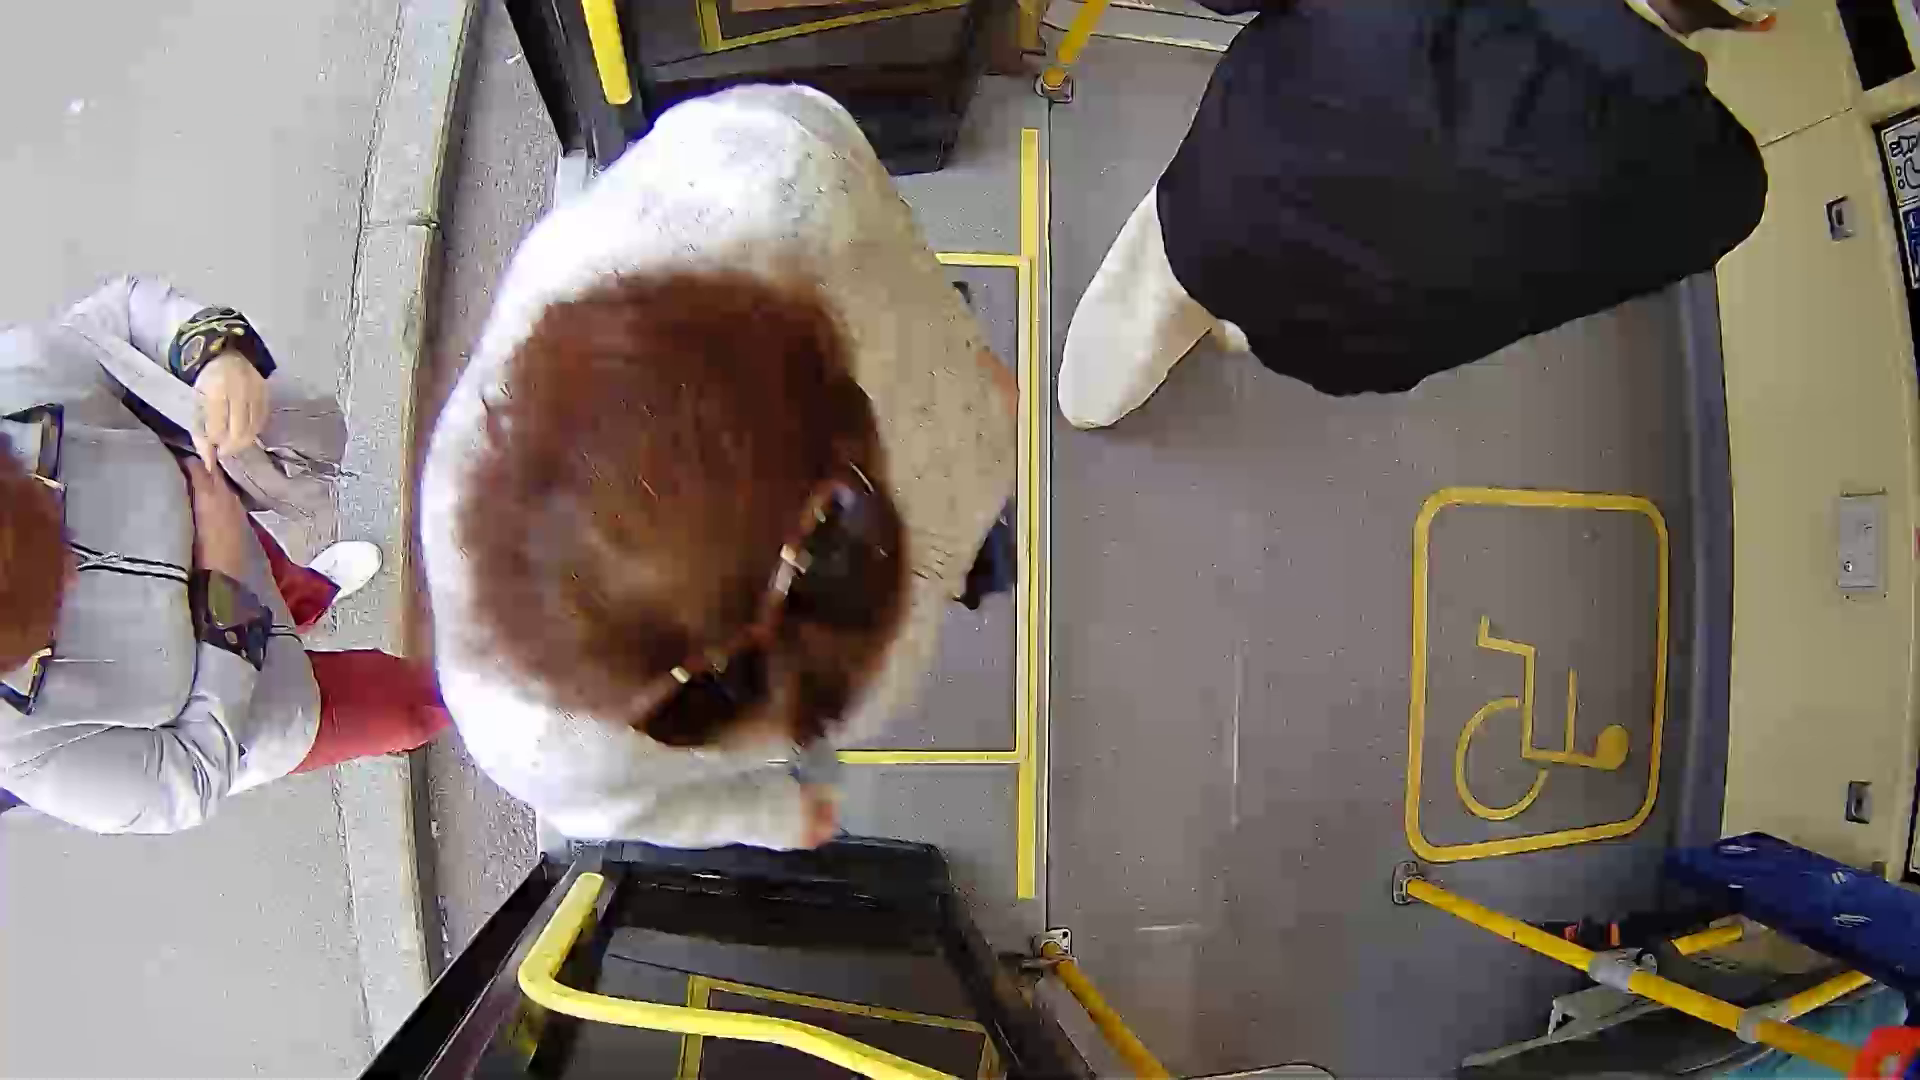person: (414, 118, 1118, 905)
